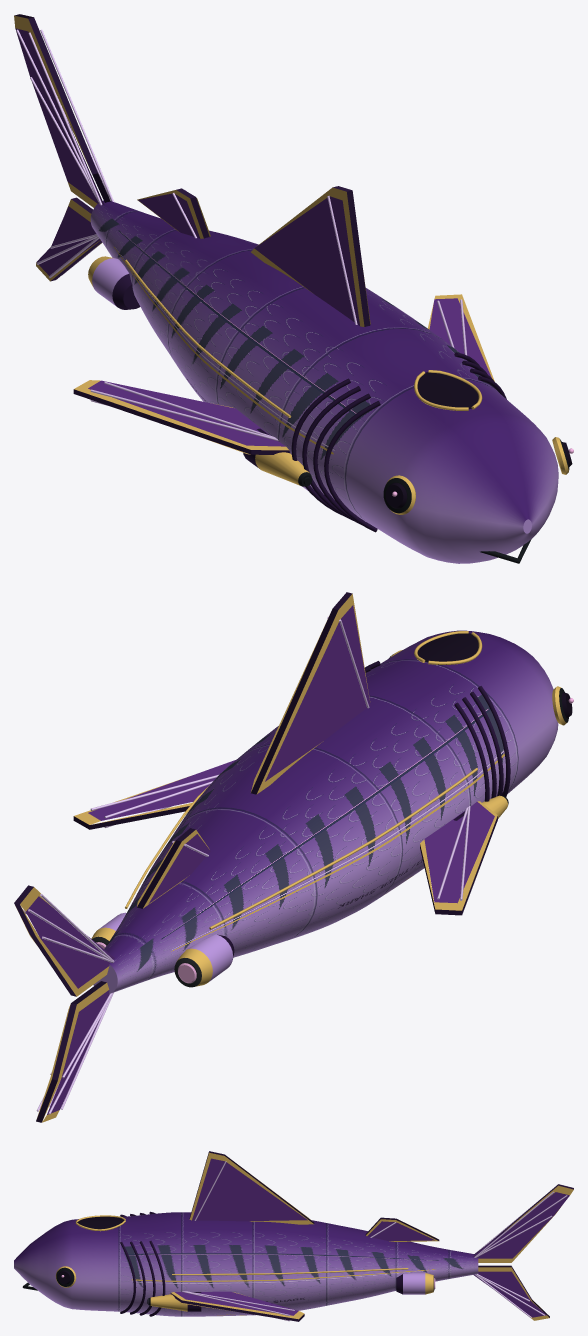
3 views of the same model, one above another, from view 1: azimuth 30°, elevation 25°; view 2: azimuth 150°, elevation 25°; view 3: azimuth 270°, elevation 25° (orthographic). The views are drawn at different scales.
Parts seen in each view (by area): view 1: tiger_shark_hull; view 2: tiger_shark_hull; view 3: tiger_shark_hull.
Boxes of the visible parts, x1,y1,x2,y2 form: tiger_shark_hull: (14,14,573,563); tiger_shark_hull: (14,592,573,1122); tiger_shark_hull: (14,1151,573,1321).
Bounding box in the file's own units: 35.12 × 26.52 × 80.
Materials: 1 (1 with a texture image).
